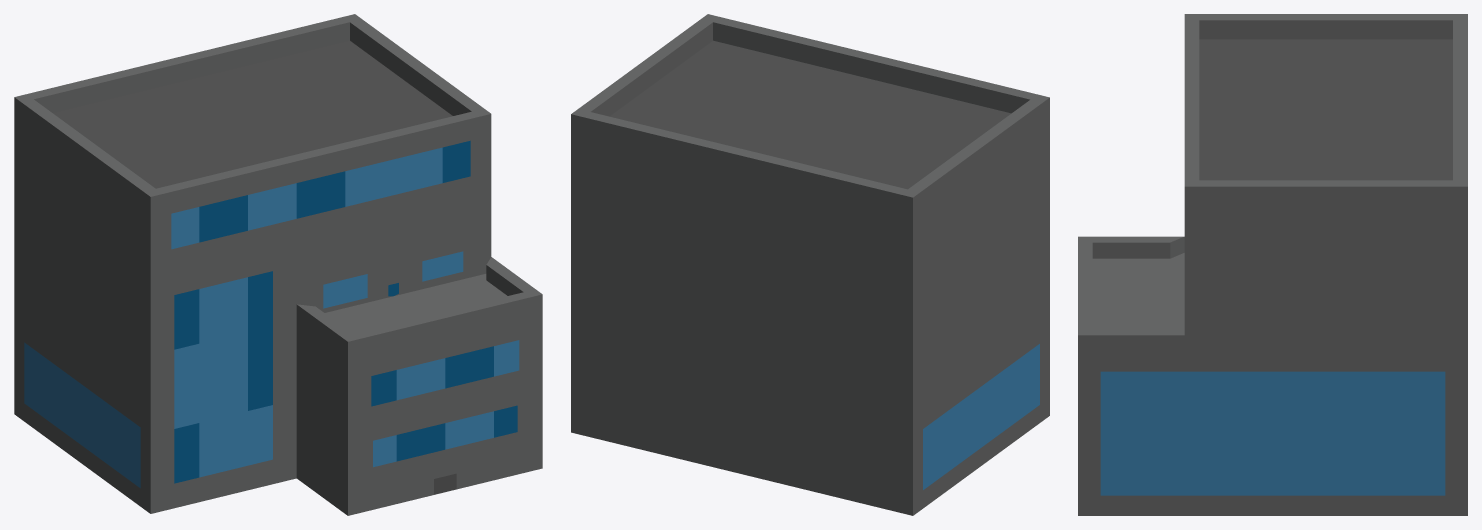
File: Edificio2.fbx
The picture shows the model from 3 angles, left to right: view 1: azimuth 30°, elevation 25°; view 2: azimuth 150°, elevation 25°; view 3: azimuth 270°, elevation 25°; orthographic projection. The views are drawn at different scales.
Visible parts, largest first — view 1: Cube; view 2: Cube; view 3: Cube.
Boxes of the visible parts, <box> form: Cube: <box>14,14,542,515</box>; Cube: <box>571,14,1049,515</box>; Cube: <box>1078,14,1467,515</box>.
Bounding box in the file's own units: 289 × 257 × 275.
